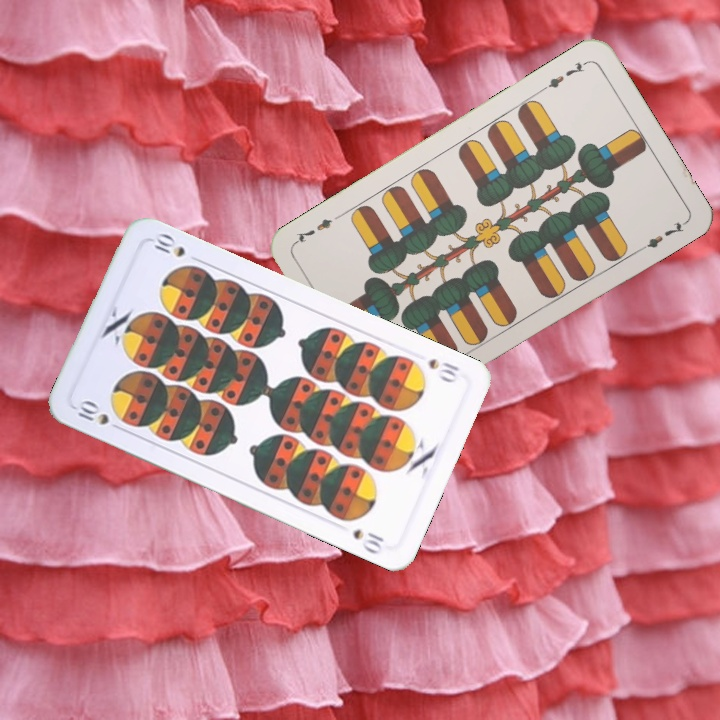E7: (538, 57, 591, 94)
S10: (73, 396, 126, 434), (424, 354, 463, 386)
